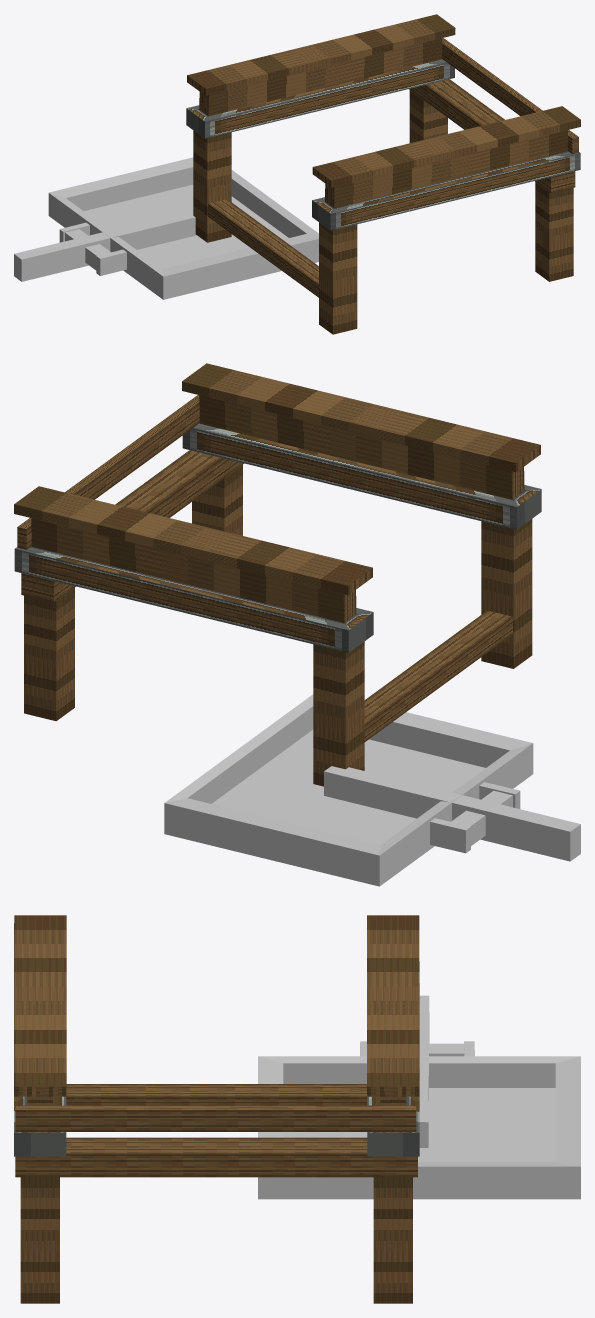
File: mechanical_sieve.obj
The picture shows the model from 3 angles, top to bottom: view 1: azimuth 30°, elevation 25°; view 2: azimuth 150°, elevation 25°; view 3: azimuth 270°, elevation 25°; orthographic projection. The views are drawn at different scales.
Visible parts, largest first — view 1: base, sieve.002, sieve.001, arm; view 2: base, sieve.002, sieve.001, arm; view 3: base, sieve.002, sieve.001, arm.
Boxes of the visible parts, box(x1,y1,x2,y2) form: base: box(186, 14, 580, 334); sieve.002: box(48, 157, 318, 299); sieve.001: box(84, 184, 288, 268); arm: box(14, 210, 196, 281); base: box(14, 363, 541, 786); sieve.002: box(164, 694, 533, 886); sieve.001: box(212, 730, 485, 844); arm: box(324, 766, 580, 861); base: box(14, 915, 419, 1303); sieve.002: box(258, 1041, 580, 1199); sieve.001: box(283, 1088, 555, 1162); arm: box(419, 995, 429, 1147).
Size of the model in its own units: 1.68 by 0.6234 by 1.4.
